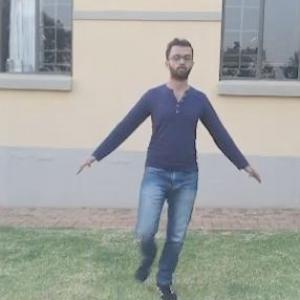land: (69, 18, 251, 286)
